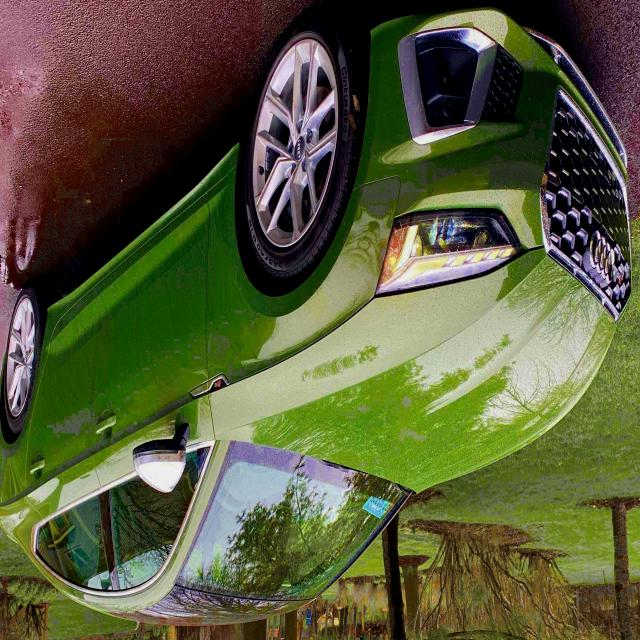green: (0, 0, 631, 631)
